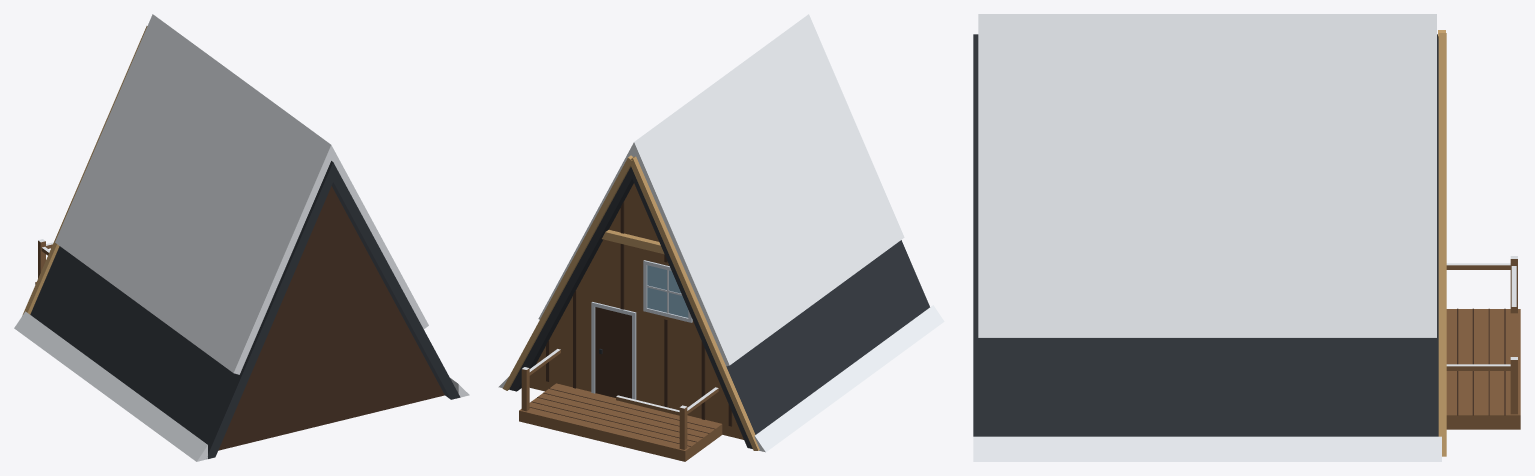
The model's file is a_frame_cabin.glb.
3 renders of one model, left to right at view 1: azimuth 30°, elevation 25°; view 2: azimuth 150°, elevation 25°; view 3: azimuth 270°, elevation 25°, orthographic. The views are drawn at different scales.
Parts seen in each view (by area): view 1: Body, Front; view 2: Body, Front, Deck, WindowsFront; view 3: Body, Deck, Front.
Part boxes in pixels (box(x1,y1,x2,y2)): Body: box(14, 14, 469, 461); Front: box(22, 26, 147, 315); Body: box(498, 14, 944, 452); Front: box(502, 155, 759, 450); Deck: box(519, 349, 722, 461); WindowsFront: box(643, 260, 692, 322); Body: box(973, 14, 1441, 461); Deck: box(1446, 256, 1520, 429); Front: box(1438, 30, 1446, 456).
Size of what is drawn, in the model's own units: 6.44 by 6.36 by 8.7.
